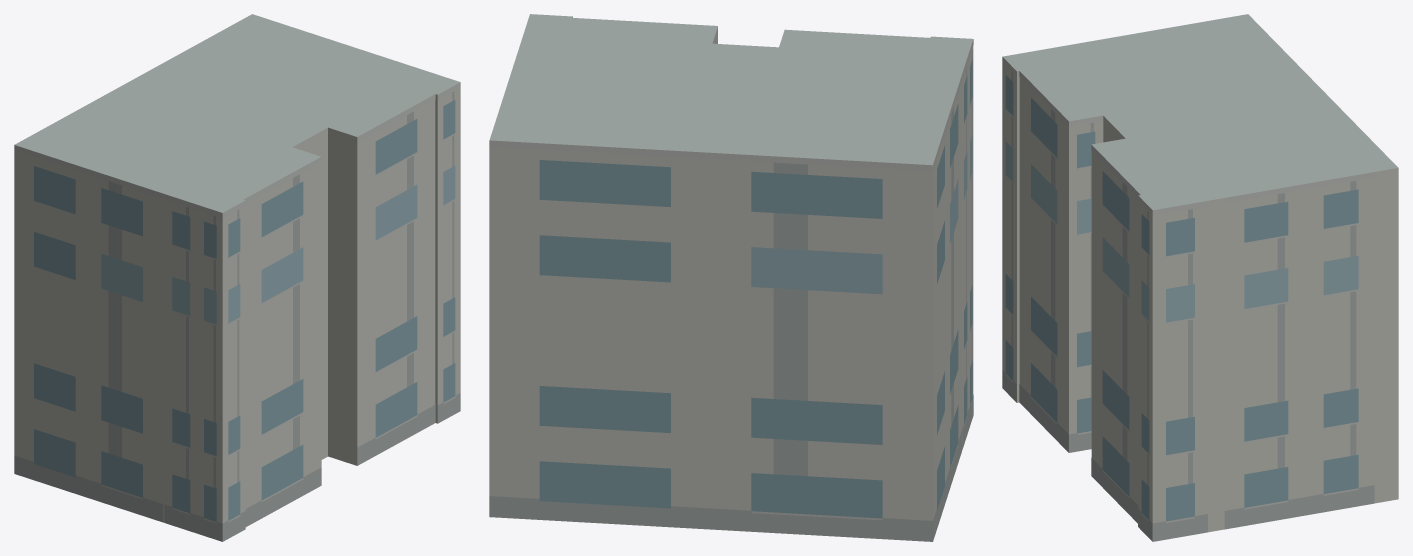
The model's file is survey-upis-32725749.glb.
The picture shows the model from 3 angles, left to right: view 1: azimuth 30°, elevation 25°; view 2: azimuth 150°, elevation 25°; view 3: azimuth 270°, elevation 25°; orthographic projection. The views are drawn at different scales.
Parts seen in each view (by area): view 1: survey-upis-32725749.tmp; view 2: survey-upis-32725749.tmp; view 3: survey-upis-32725749.tmp.
Part boxes in pixels (x1,y1,x2,y2): survey-upis-32725749.tmp: [14, 14, 460, 541]; survey-upis-32725749.tmp: [489, 14, 973, 541]; survey-upis-32725749.tmp: [1002, 14, 1398, 541].
Size of the model in its own units: 18.3 by 14.4 by 15.6.
